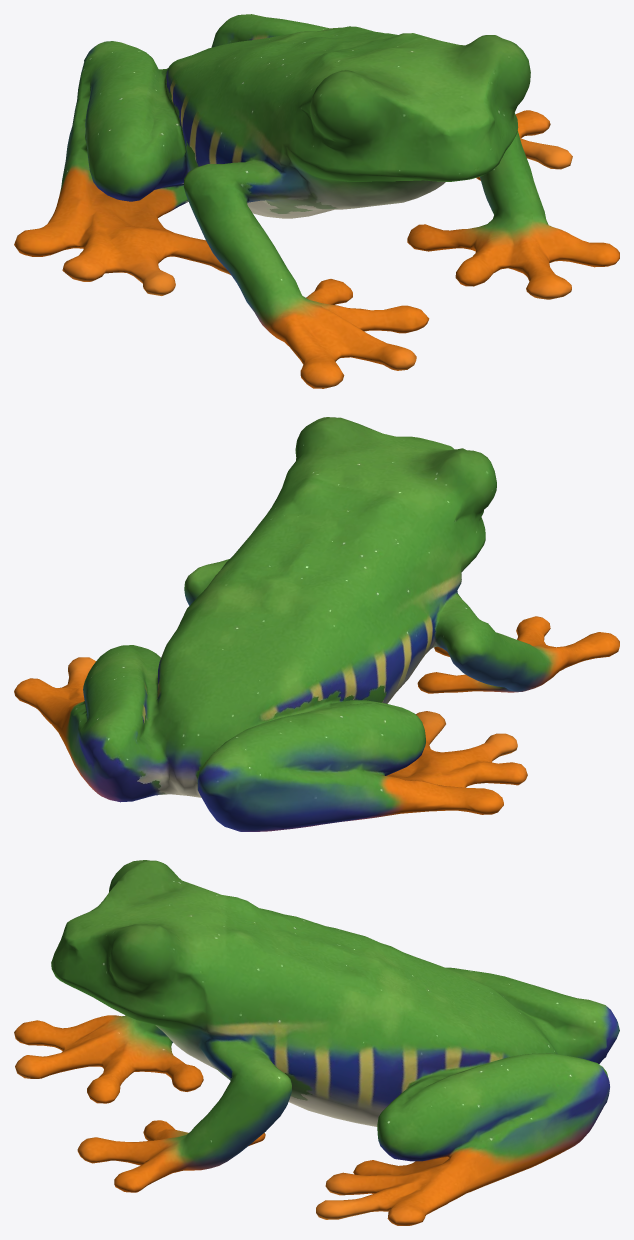
File: redeye.glb
3 views of the same model, one above another, from view 1: azimuth 30°, elevation 25°; view 2: azimuth 150°, elevation 25°; view 3: azimuth 270°, elevation 25° (orthographic). The views are drawn at different scales.
Visible parts, largest first — view 1: redeye; view 2: redeye; view 3: redeye.
Boxes of the visible parts, x1,y1,x2,y2 form: redeye: [14, 14, 619, 388]; redeye: [14, 417, 619, 831]; redeye: [14, 860, 619, 1225].
Size of the model in its own units: 0.0582 by 0.0261 by 0.064.
Materials: 1 (1 with a texture image).
